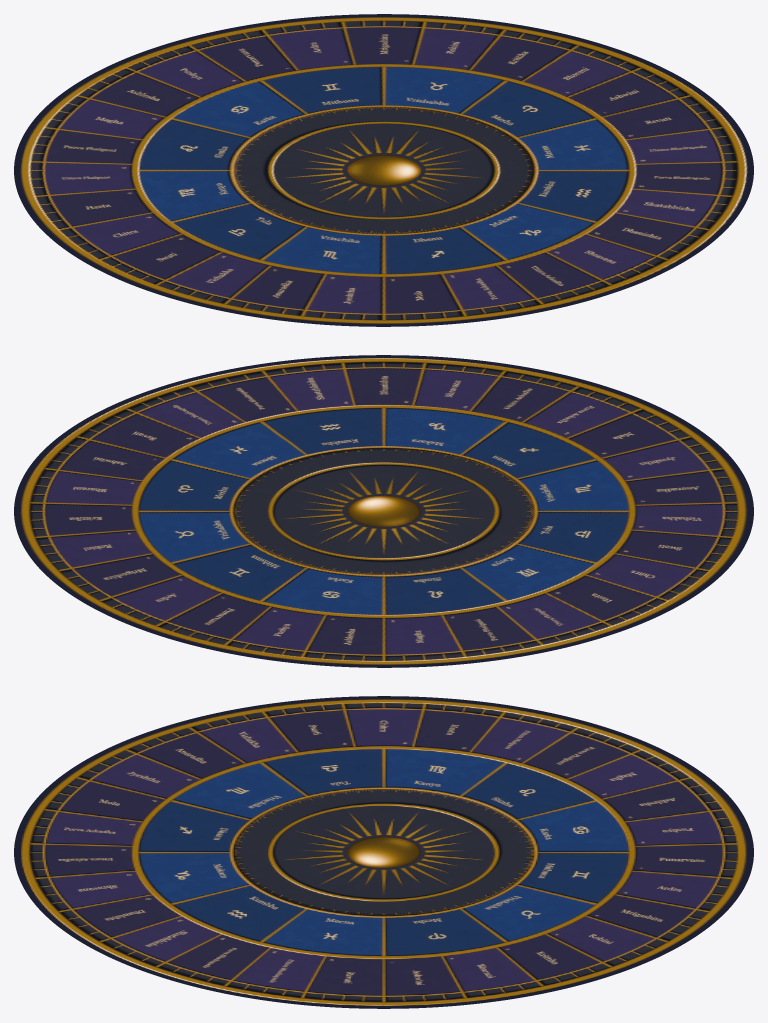
Rendered from wheel.glb.
3 views of the same model, one above another, from view 1: azimuth 30°, elevation 25°; view 2: azimuth 150°, elevation 25°; view 3: azimuth 270°, elevation 25° (orthographic).
Visible parts, largest first — view 1: wheel; view 2: wheel; view 3: wheel.
Part boxes in pixels (x1=…): wheel: x1=14, y1=14, x2=753, y2=326; wheel: x1=14, y1=355, x2=753, y2=667; wheel: x1=14, y1=696, x2=753, y2=1008.
Size of the model in its own units: 20 by 0 by 20.
1 material, 1 textured.
